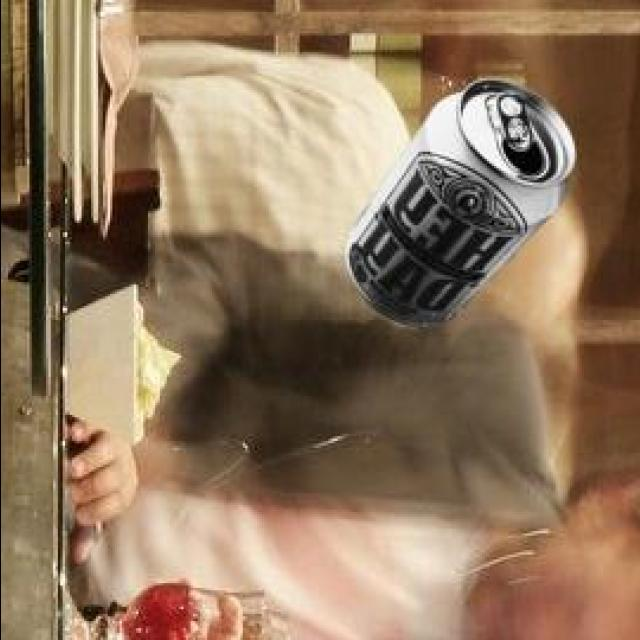logam: (347, 82, 577, 331)
